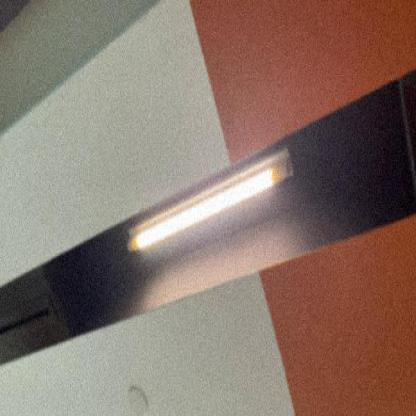light_on: (119, 135, 307, 255)
